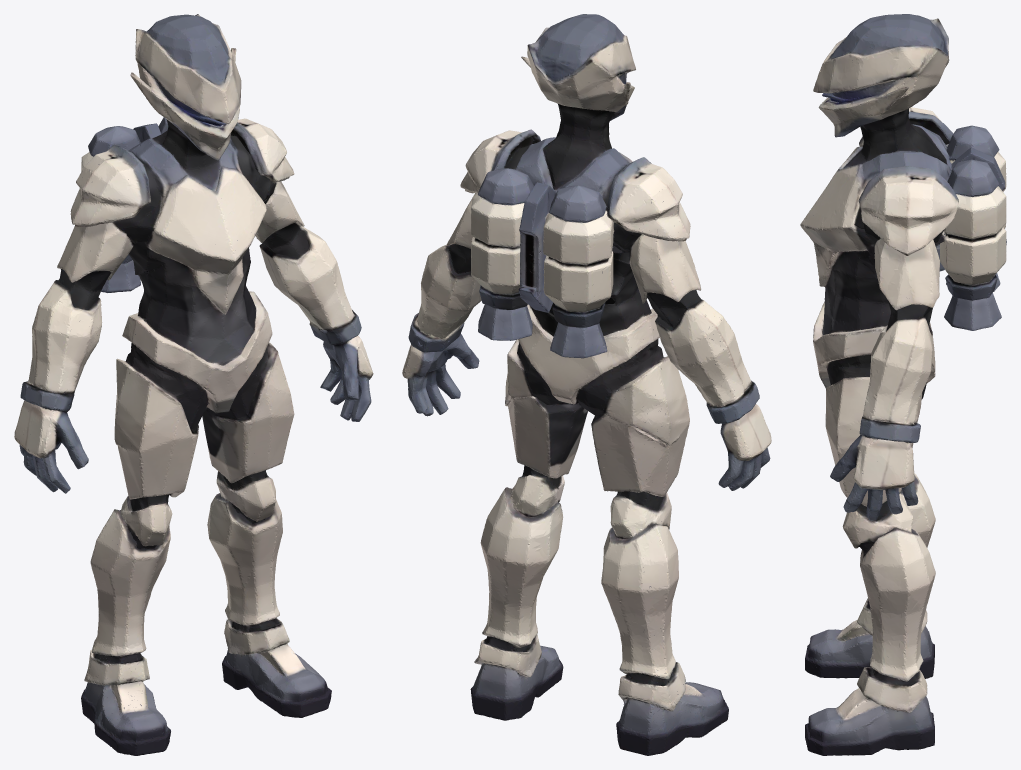
The model's file is tactician-r2-s302.glb.
3 views of the same model, side by side, from view 1: azimuth 30°, elevation 25°; view 2: azimuth 150°, elevation 25°; view 3: azimuth 270°, elevation 25° (orthographic). The views are drawn at different scales.
Visible parts, largest first — view 1: geometry_0; view 2: geometry_0; view 3: geometry_0.
Part boxes in pixels (bbox=[...]): geometry_0: bbox=[14, 14, 373, 755]; geometry_0: bbox=[402, 14, 771, 755]; geometry_0: bbox=[800, 14, 1006, 755].
Bounding box in the file's own units: 0.2612 × 0.501 × 0.1367.
1 material, 1 textured.
